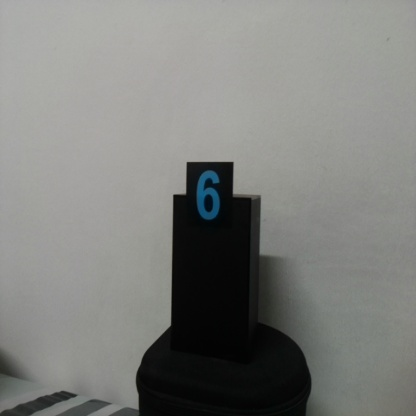id_6: (186, 162, 234, 238)
